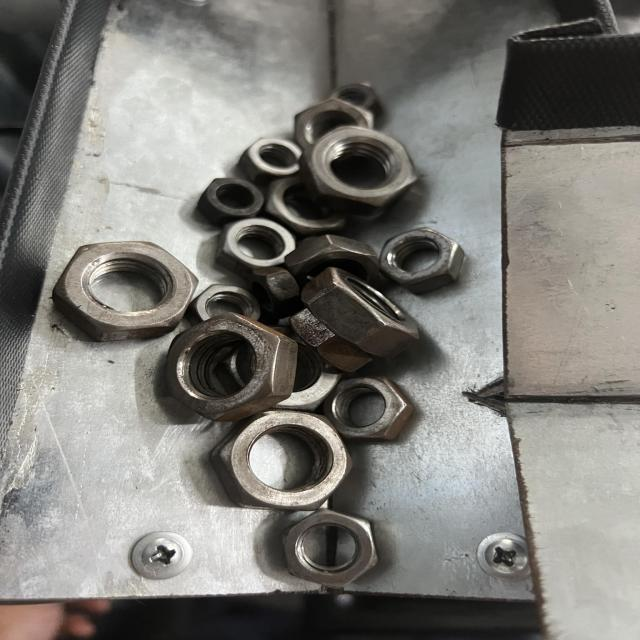nut: (209, 412, 357, 514), (163, 313, 295, 420), (52, 241, 196, 338), (302, 127, 420, 208), (282, 510, 376, 590), (378, 228, 466, 291)
